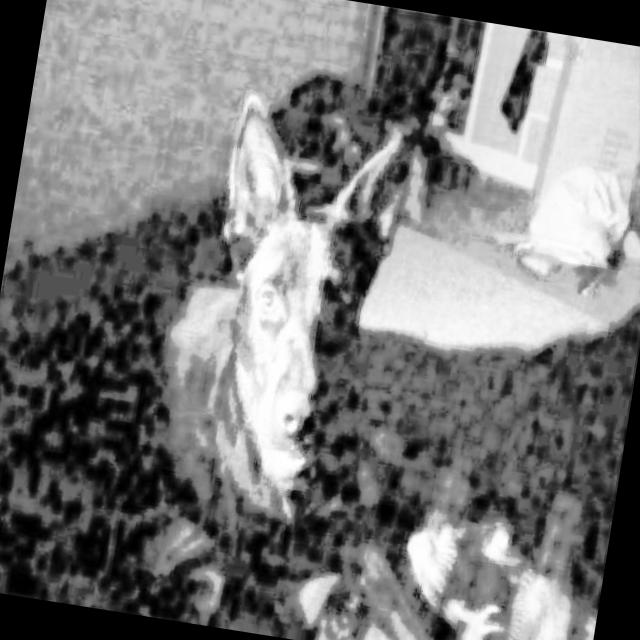Dog: (116, 68, 437, 558)
